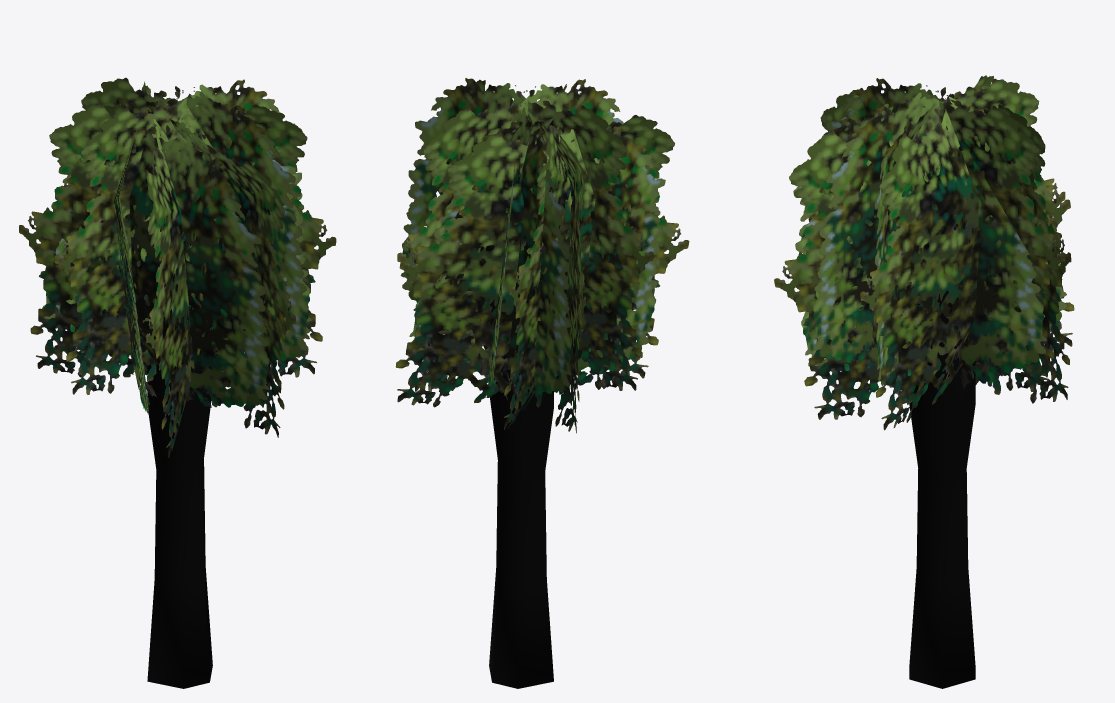
File: tree_01b.fbx
3 renders of one model, left to right at view 1: azimuth 30°, elevation 25°; view 2: azimuth 150°, elevation 25°; view 3: azimuth 270°, elevation 25°, orthographic.
Visible parts, largest first — view 1: tree_01b; view 2: tree_01b; view 3: tree_01b.
Boxes of the visible parts, left/top/right/bottom form: tree_01b: left=19, top=77, right=336, bottom=688; tree_01b: left=395, top=78, right=689, bottom=688; tree_01b: left=774, top=75, right=1074, bottom=688.
Bounding box in the file's own units: 3.9 × 8.41 × 4.55.
